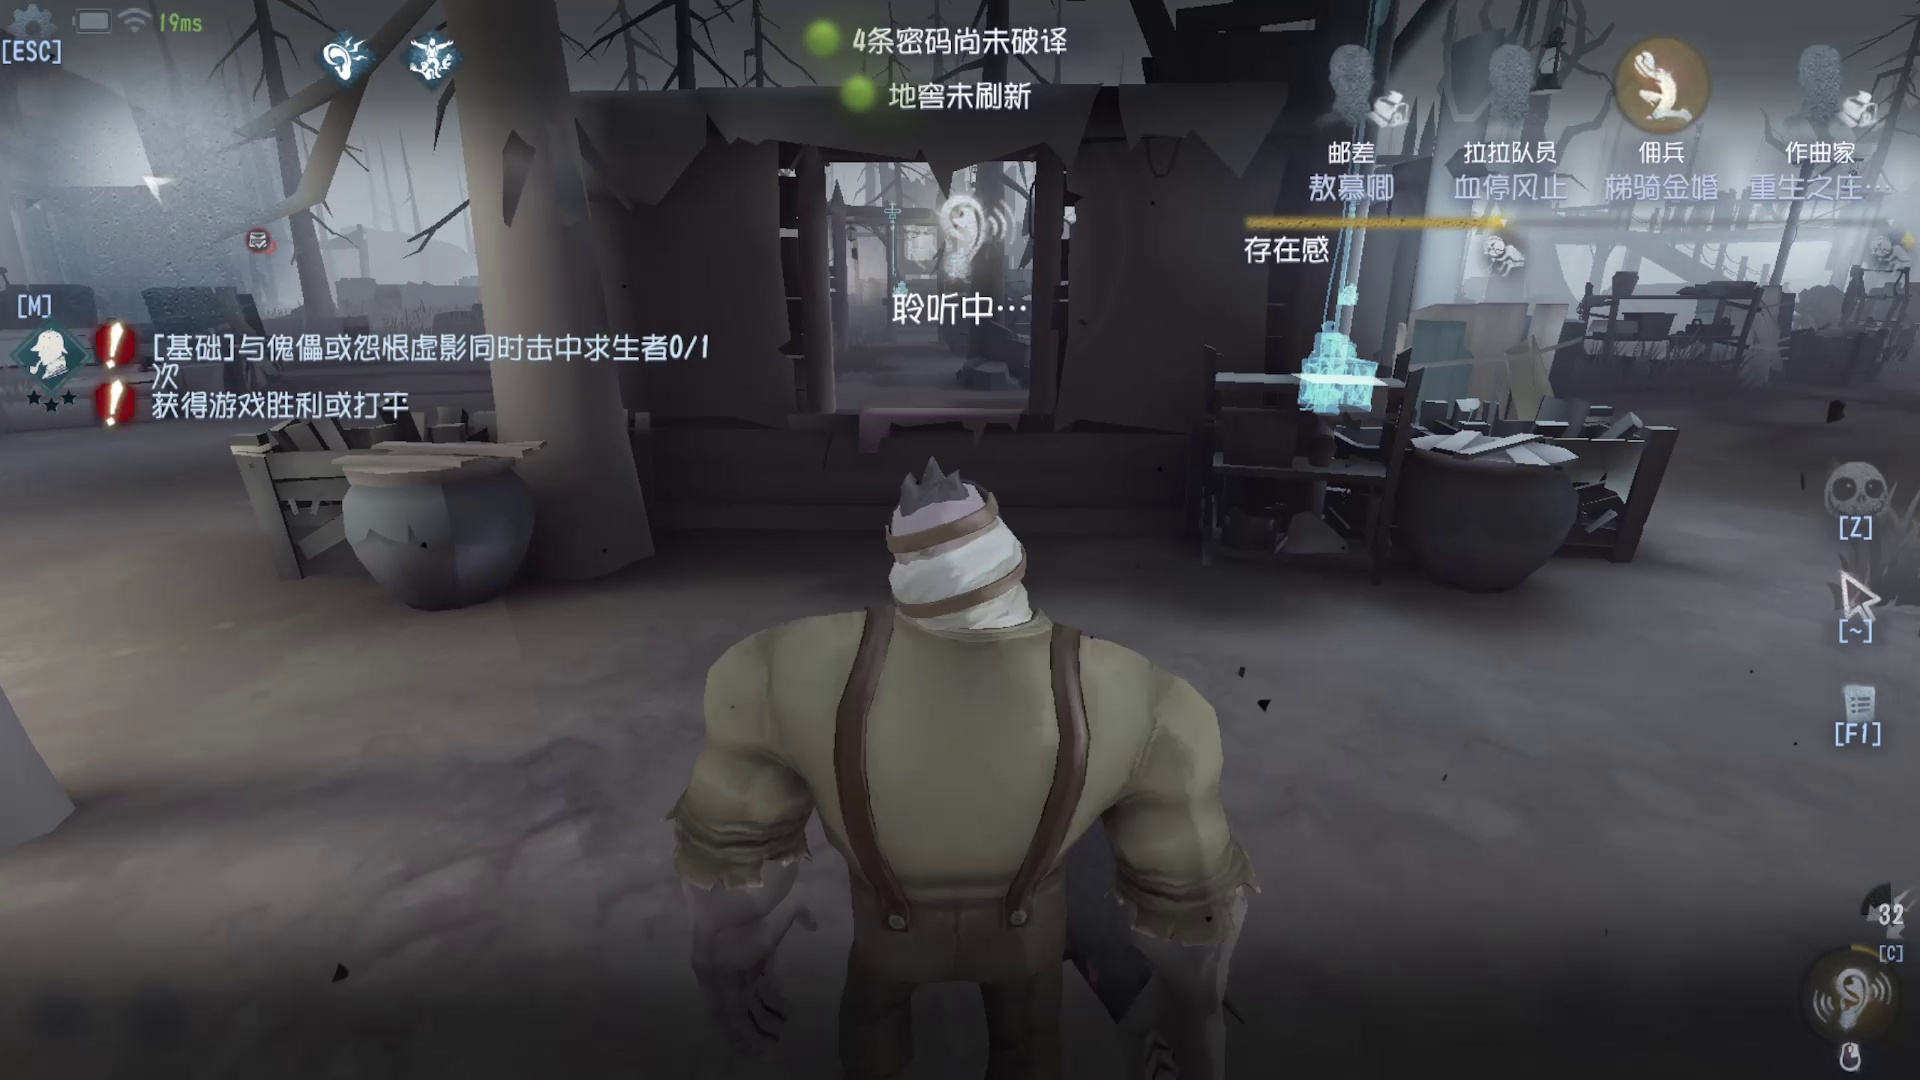密码机: (1251, 67, 1389, 434), (868, 177, 927, 313)
木板: (1370, 274, 1563, 455)
